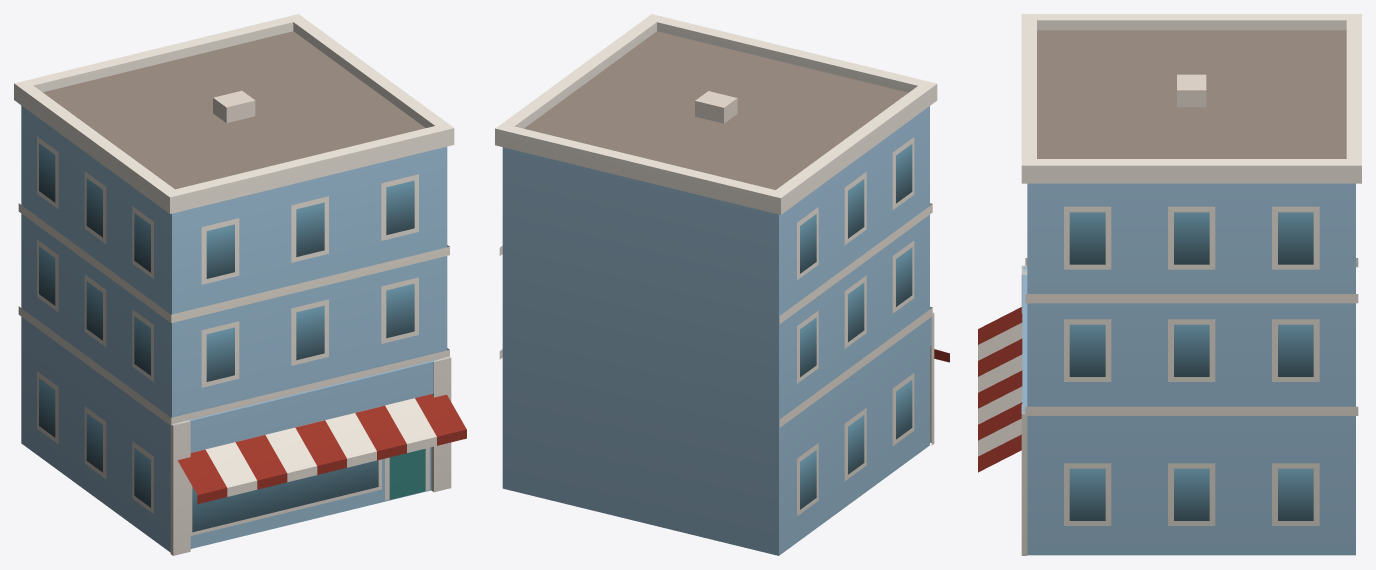
File: vee_left1_far.glb
3 views of the same model, side by side, from view 1: azimuth 30°, elevation 25°; view 2: azimuth 150°, elevation 25°; view 3: azimuth 270°, elevation 25° (orthographic). The views are drawn at different scales.
Visible parts, largest first — view 1: vee_left1_far; view 2: vee_left1_far; view 3: vee_left1_far.
Boxes of the visible parts, box(x1,y1,x2,y2) form: vee_left1_far: box(14, 14, 466, 555); vee_left1_far: box(495, 14, 949, 555); vee_left1_far: box(978, 14, 1361, 555).
Size of the model in its own units: 9.82 by 12.07 by 10.51.
1 material, 1 textured.
